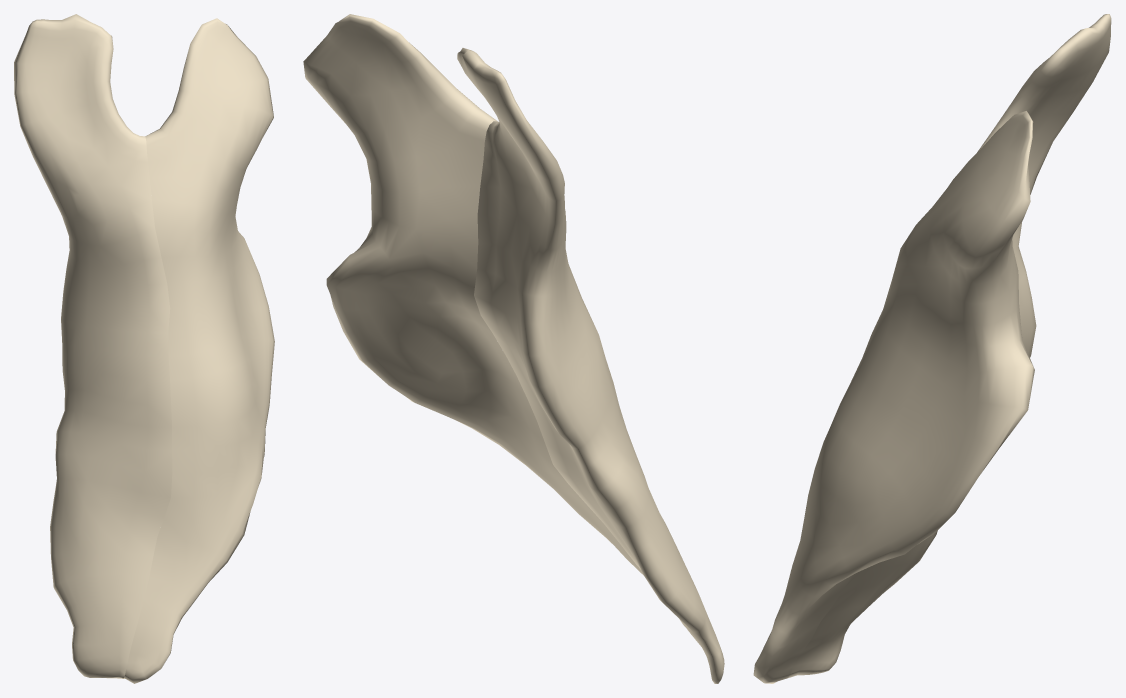
The model's file is thymus-male.glb.
3 renders of one model, left to right at view 1: azimuth 30°, elevation 25°; view 2: azimuth 150°, elevation 25°; view 3: azimuth 270°, elevation 25°, orthographic. The views are drawn at different scales.
Visible parts, largest first — view 1: VH_M_thymus_lobe_L, VH_M_thymus_lobe_R; view 2: VH_M_thymus_lobe_R, VH_M_thymus_lobe_L; view 3: VH_M_thymus_lobe_R, VH_M_thymus_lobe_L.
Part boxes in pixels (bbox=[...]): VH_M_thymus_lobe_L: bbox=[14, 14, 172, 678]; VH_M_thymus_lobe_R: bbox=[123, 18, 274, 683]; VH_M_thymus_lobe_R: bbox=[303, 14, 643, 574]; VH_M_thymus_lobe_L: bbox=[457, 48, 724, 683]; VH_M_thymus_lobe_R: bbox=[753, 111, 1034, 683]; VH_M_thymus_lobe_L: bbox=[788, 14, 1111, 677].
Bounding box in the file's own units: 0.037 × 0.0757 × 0.0351.
